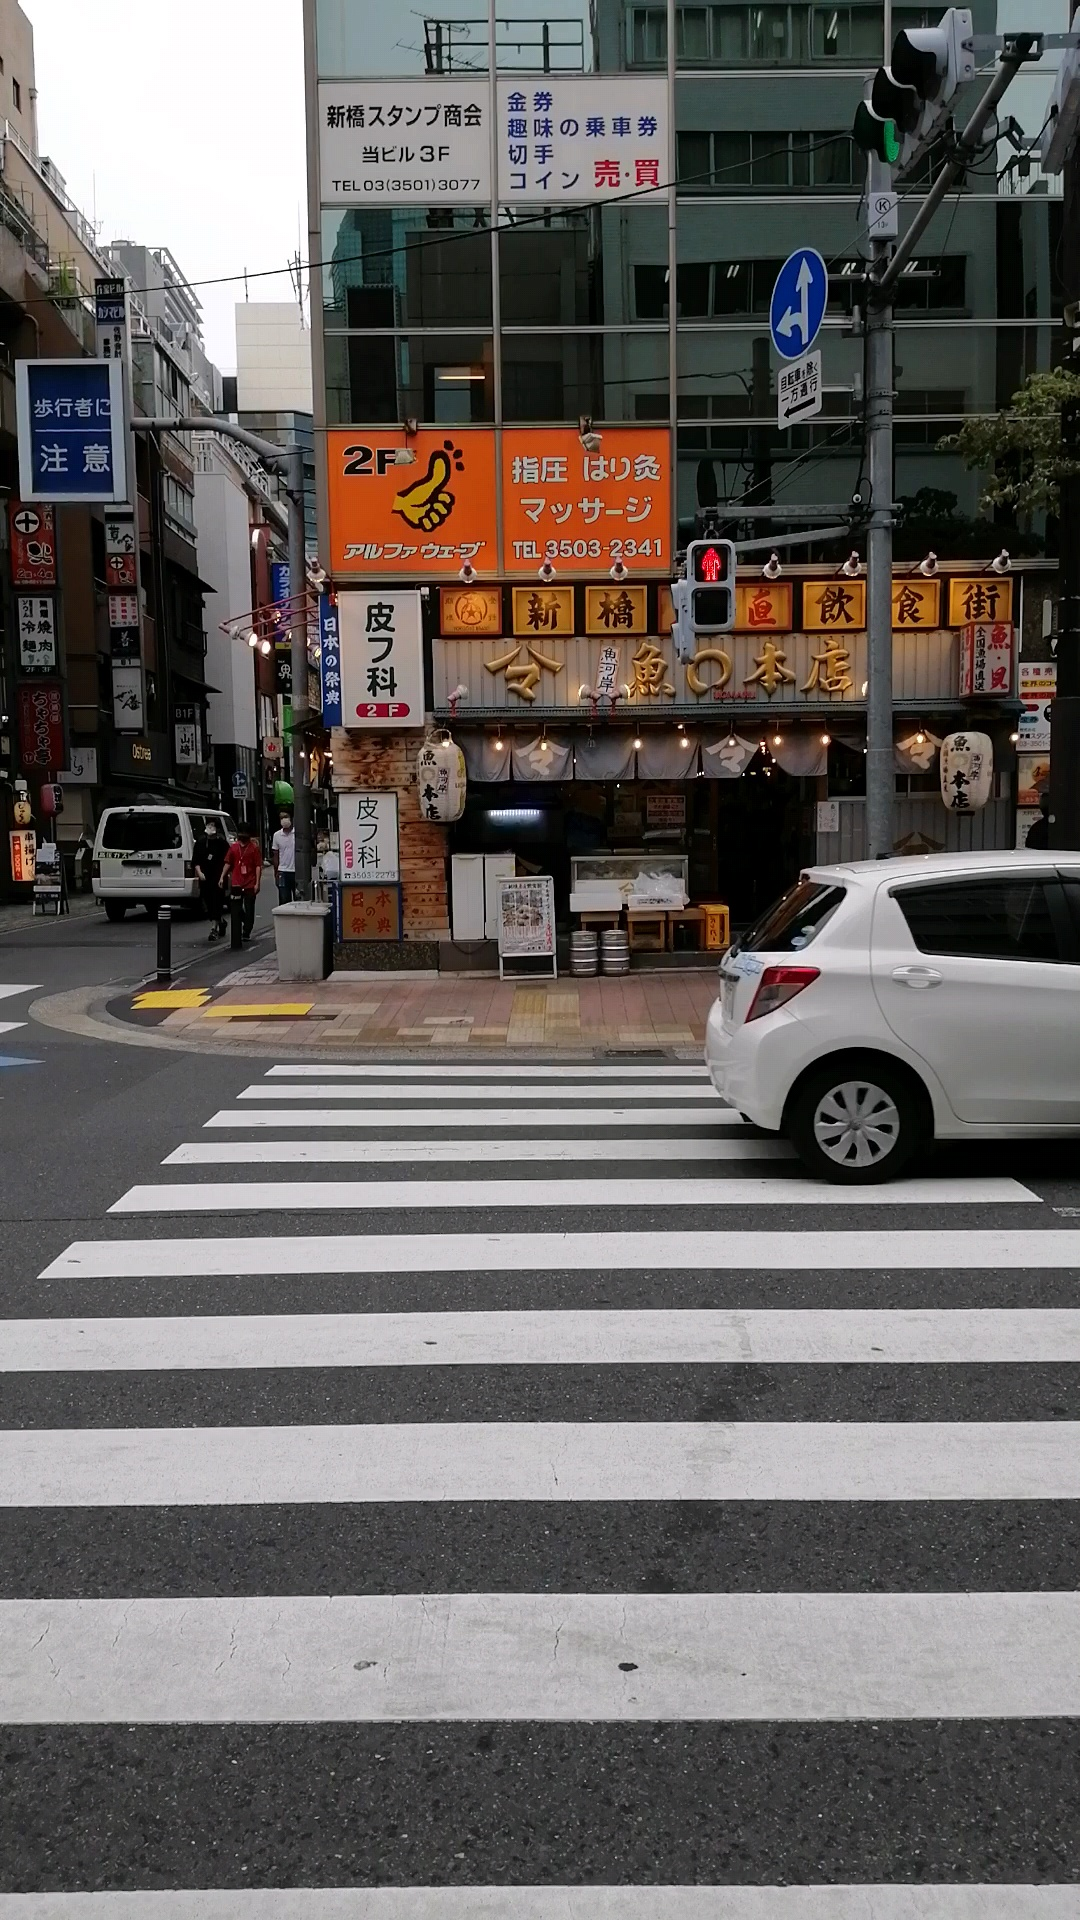red: (684, 535, 735, 633)
